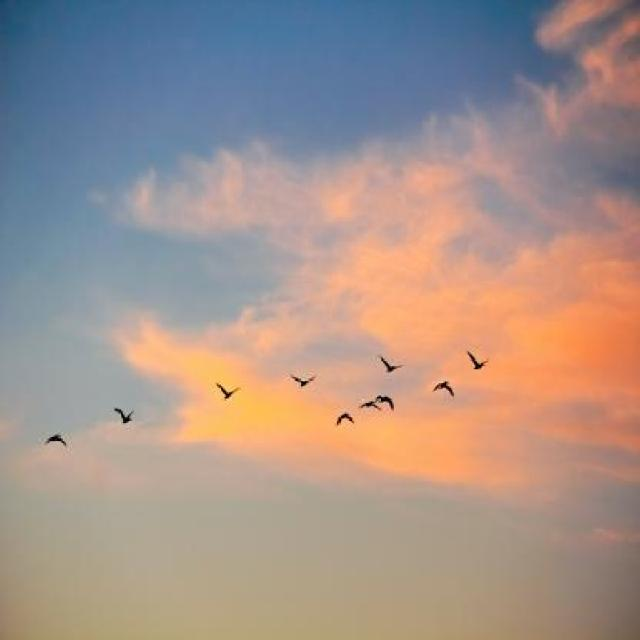bird: (466, 350, 489, 370), (215, 382, 240, 400), (379, 354, 403, 372), (432, 380, 456, 398), (290, 374, 316, 388), (374, 395, 394, 411), (114, 408, 134, 424), (358, 401, 382, 412), (45, 435, 67, 447), (337, 413, 355, 427)
